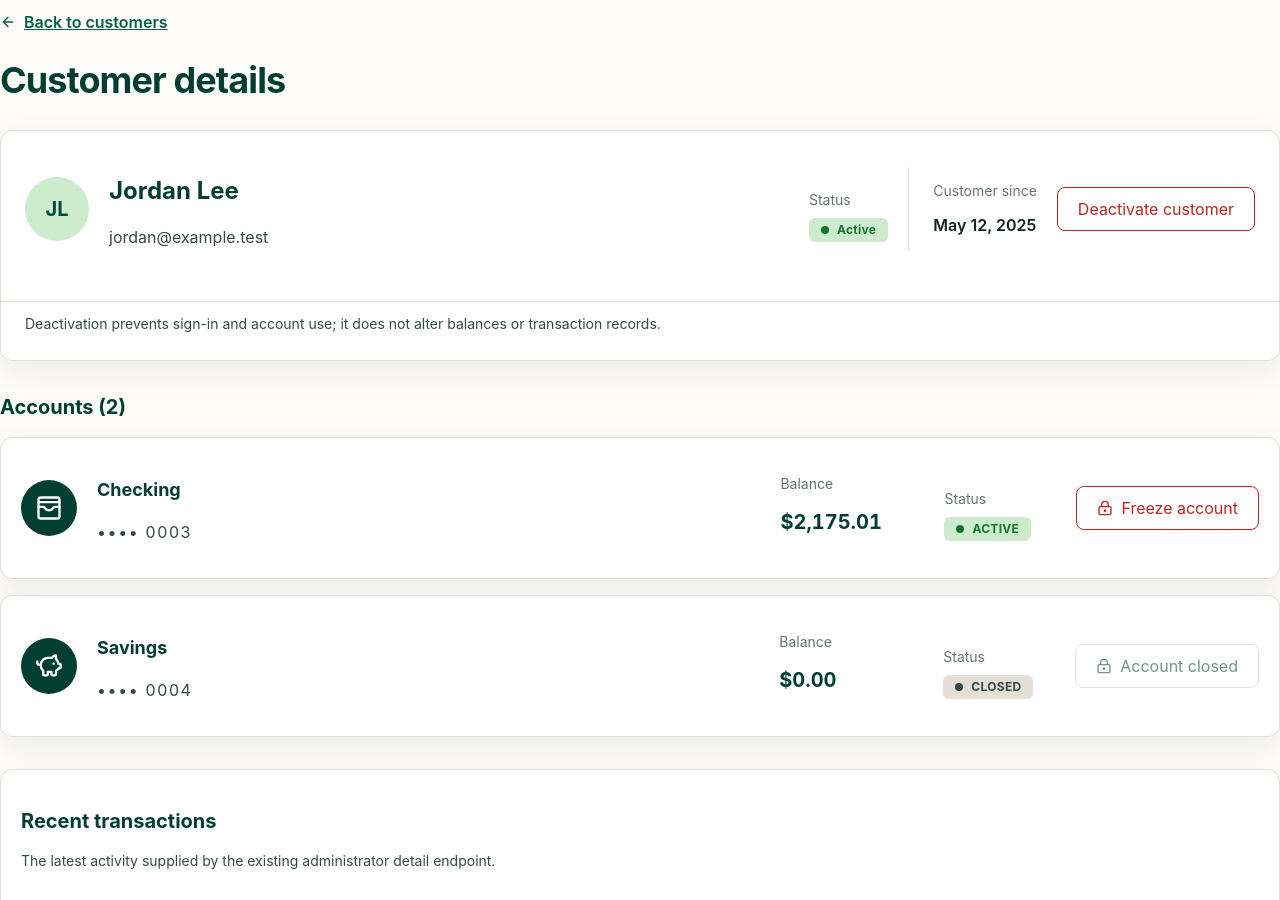
Test: renders returned transactions and confirms an account status mutation
Expected: the button "Account closed" is disabled, [1075,644,1259,688]
Click the button "Freeze account". click: [1168, 508]
box: [1076,486,1259,530]
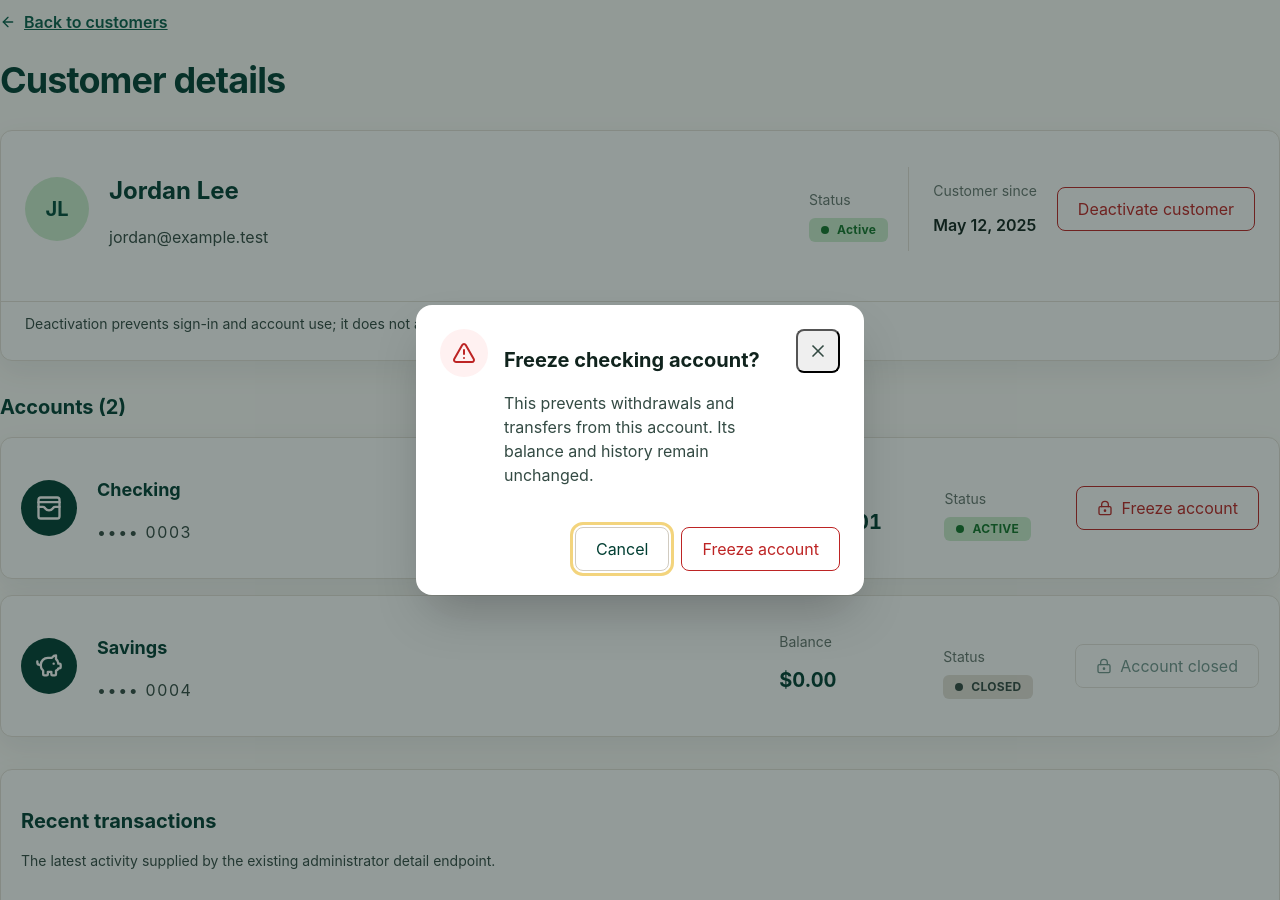
Expected: the dialog is shown
Press Escape
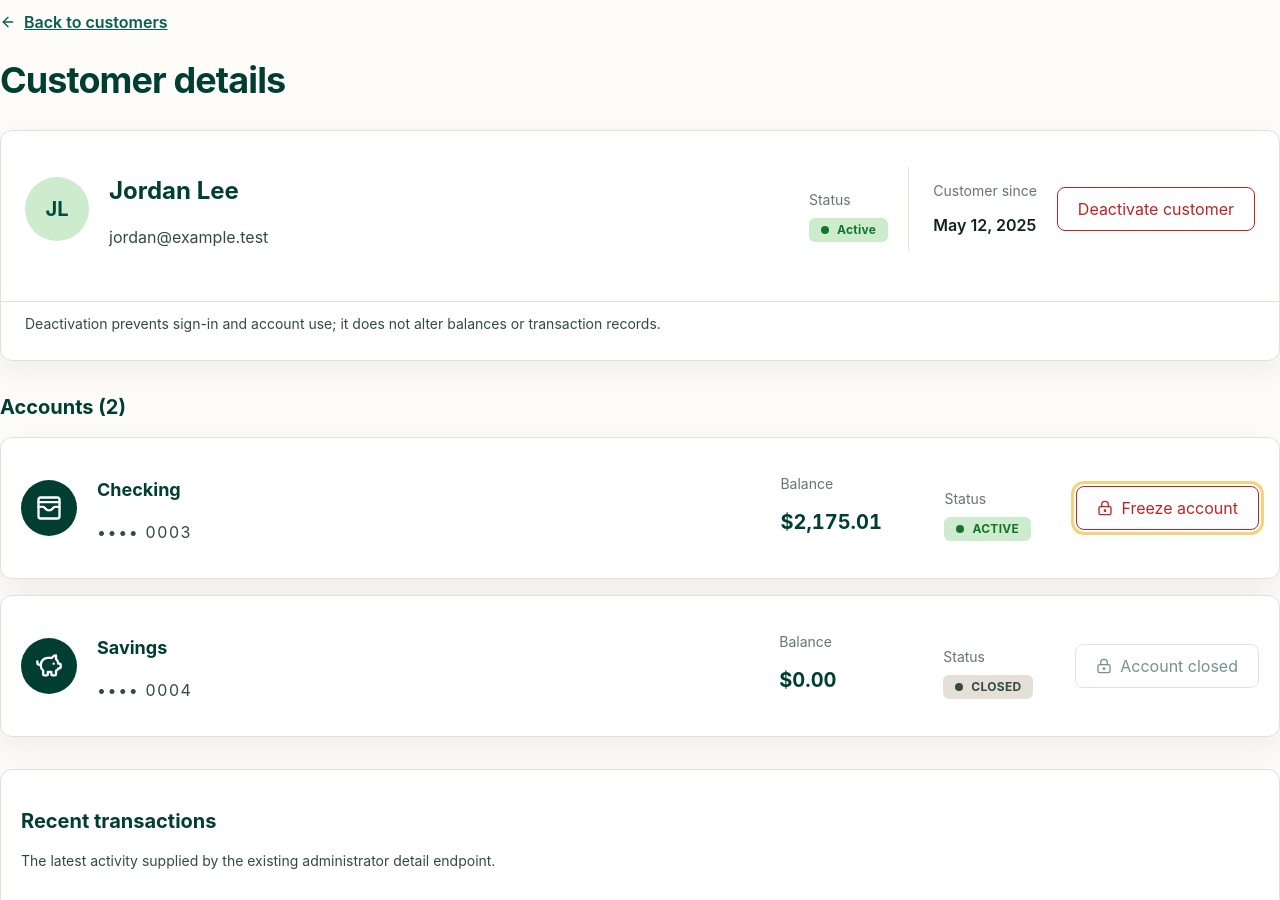
Expected: the dialog is gone
Click the button "Freeze account". click: [1168, 508]
box: [1076,486,1259,530]
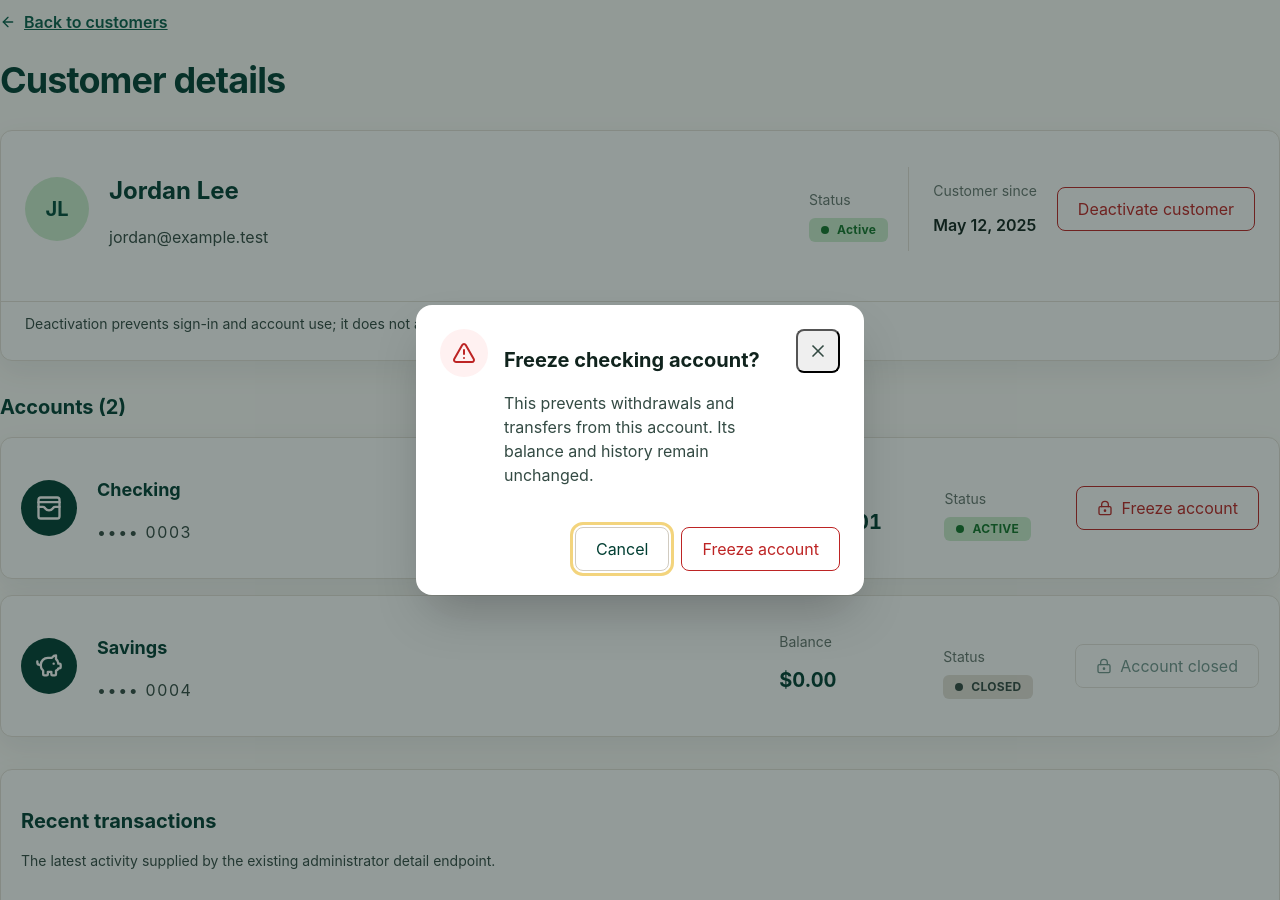
Click the button "Freeze account". click: [761, 549]
box: [681,527,840,571]
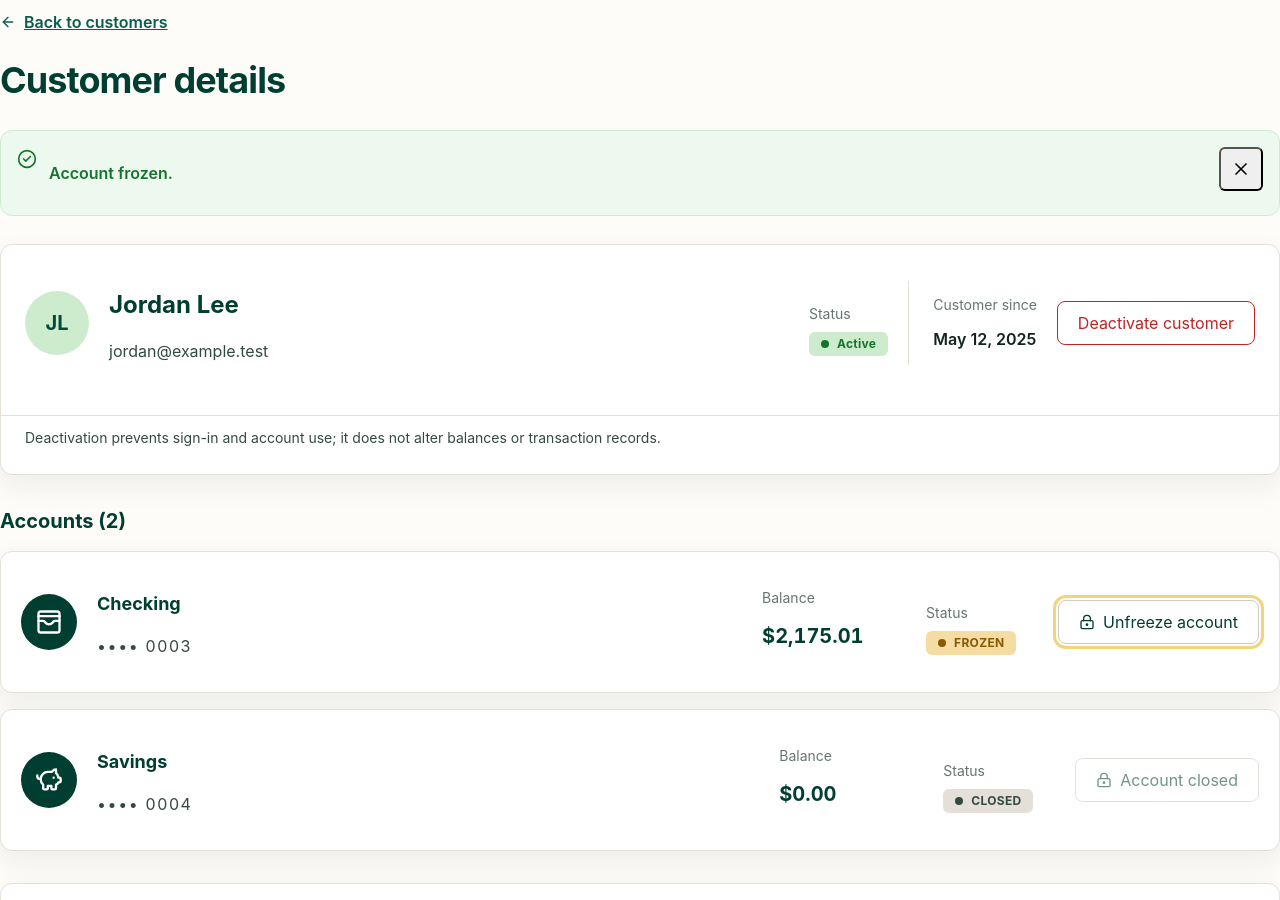
Expected: the text "Account frozen." is shown, [49,163,173,183]
